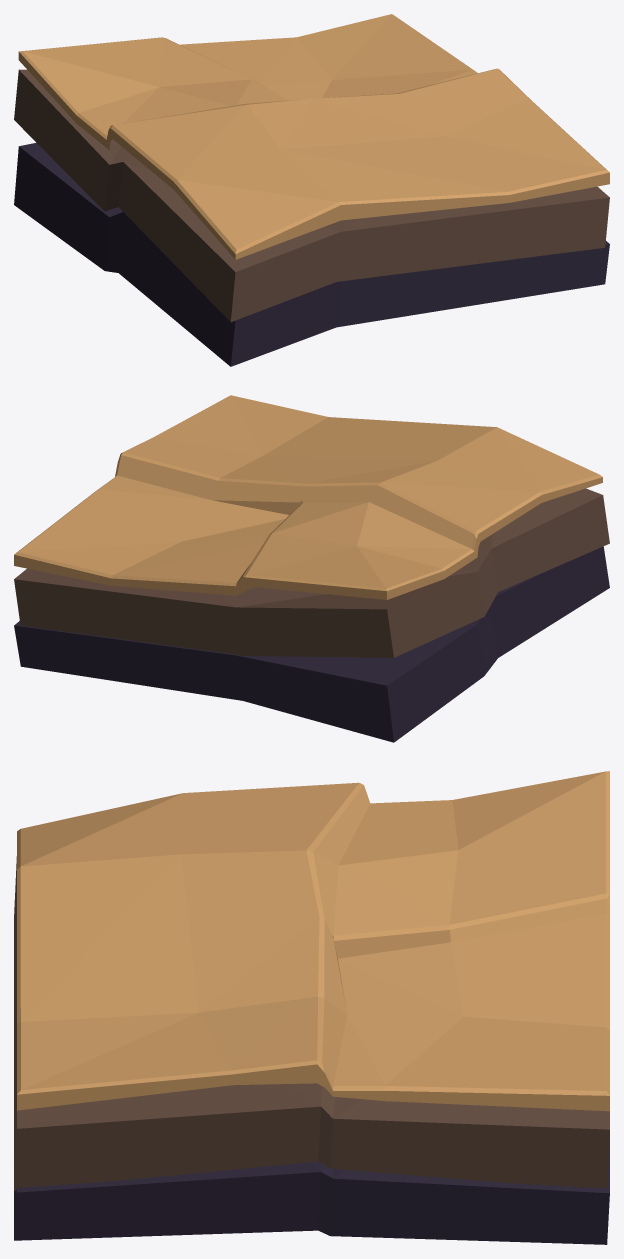
File: ground_03.glb
3 views of the same model, one above another, from view 1: azimuth 30°, elevation 25°; view 2: azimuth 150°, elevation 25°; view 3: azimuth 270°, elevation 25° (orthographic). The views are drawn at different scales.
Parts seen in each view (by area): view 1: Plane.008; view 2: Plane.008; view 3: Plane.008.
Boxes of the visible parts, x1,y1,x2,y2 form: Plane.008: [14, 14, 609, 366]; Plane.008: [14, 395, 609, 742]; Plane.008: [14, 771, 609, 1244].
Size of the model in its own units: 40.47 by 17.01 by 40.14.
1 material, 1 textured.
